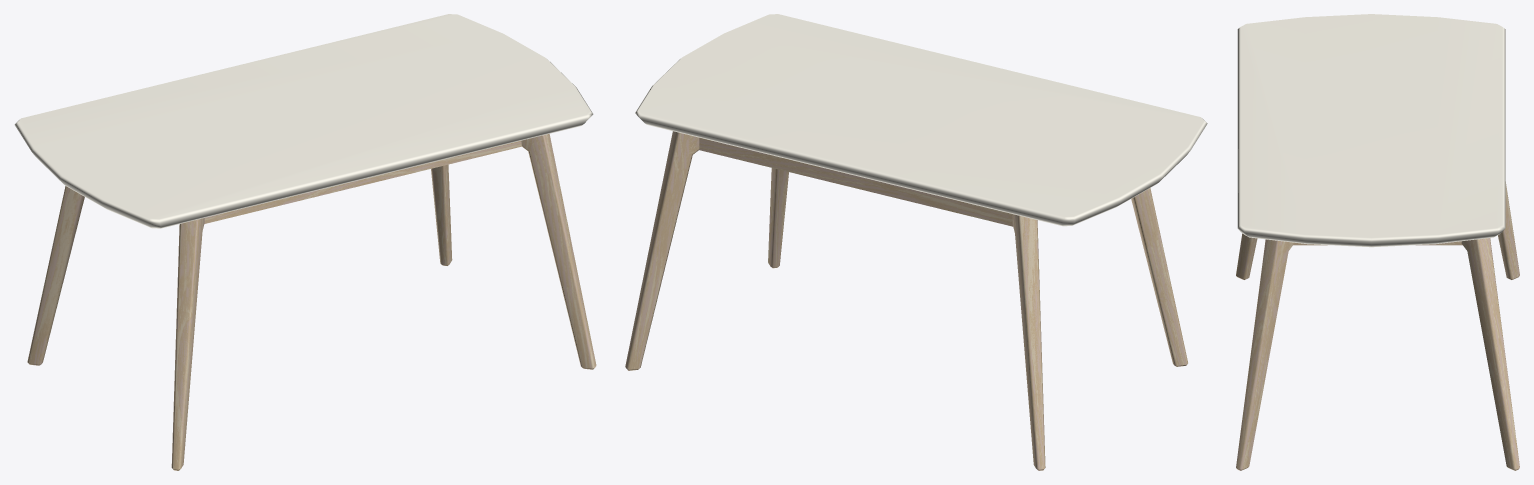
The model's file is kitchen_table_010.fbx.
3 renders of one model, left to right at view 1: azimuth 30°, elevation 25°; view 2: azimuth 150°, elevation 25°; view 3: azimuth 270°, elevation 25°, orthographic. The views are drawn at different scales.
Visible parts, largest first — view 1: kitchen_table_010; view 2: kitchen_table_010; view 3: kitchen_table_010.
Part boxes in pixels (<box>): kitchen_table_010: <box>14,14,596,470</box>; kitchen_table_010: <box>625,14,1207,470</box>; kitchen_table_010: <box>1236,14,1519,470</box>.
Size of the model in its own units: 195 by 103 by 97.31.
